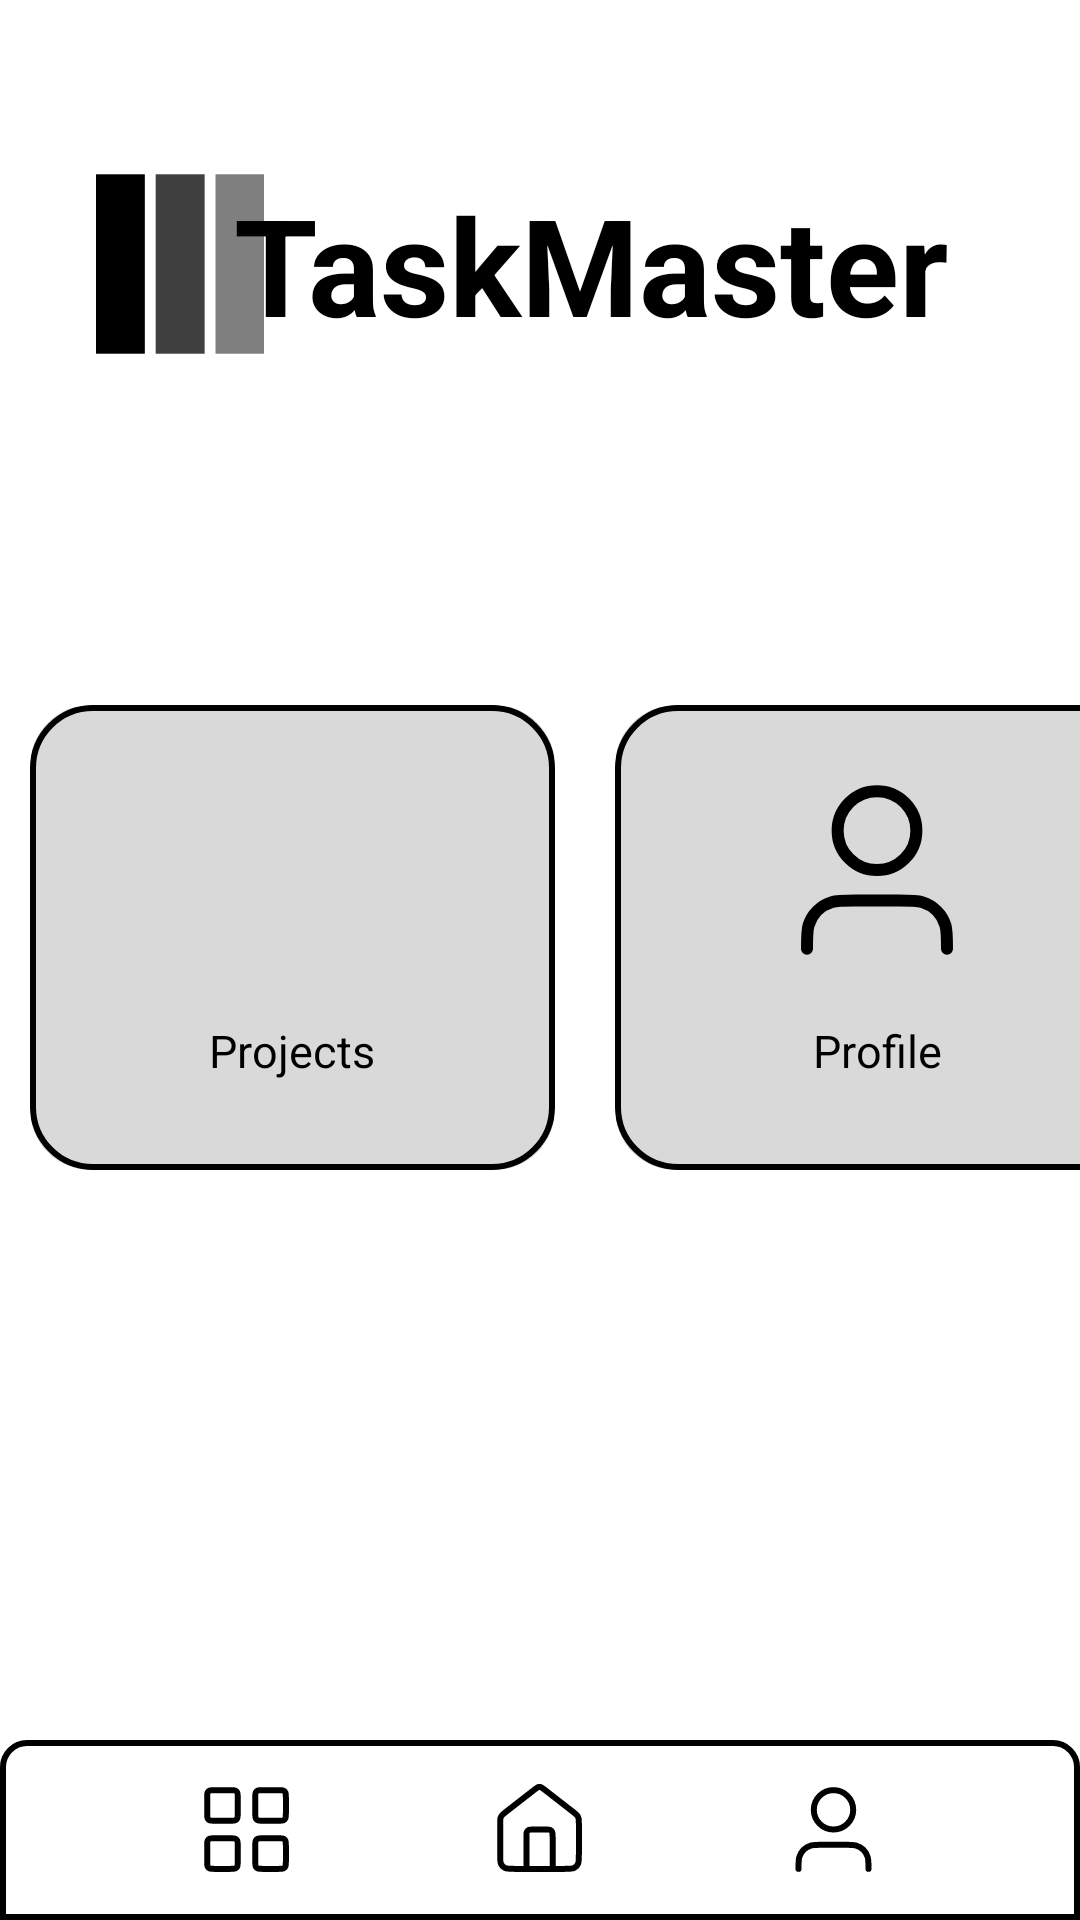

Icon click points for this 1080px×1920px phone screenshot, format (x,y):
grid: (246,1829)
home: (539,1828)
user: (877,870), (833,1829)
